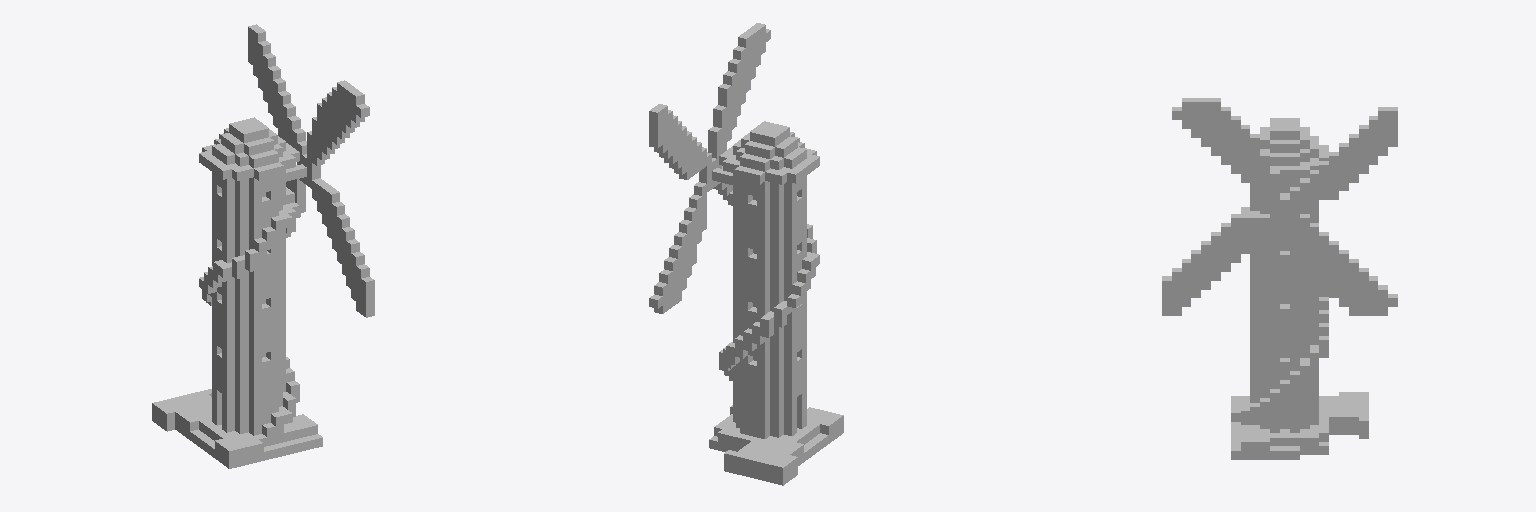
The model's file is windmill.obj.
The picture shows the model from 3 angles: view 1: azimuth 30°, elevation 25°; view 2: azimuth 150°, elevation 25°; view 3: azimuth 270°, elevation 25°; orthographic projection.
Parts seen in each view (by area): view 1: object 1; view 2: object 1; view 3: object 1.
Part boxes in pixels (bbox=[...]): object 1: bbox=[152, 24, 374, 468]; object 1: bbox=[649, 23, 843, 485]; object 1: bbox=[1162, 98, 1397, 459].
Size of the model in its own units: 1.4 by 4.1 by 2.4.